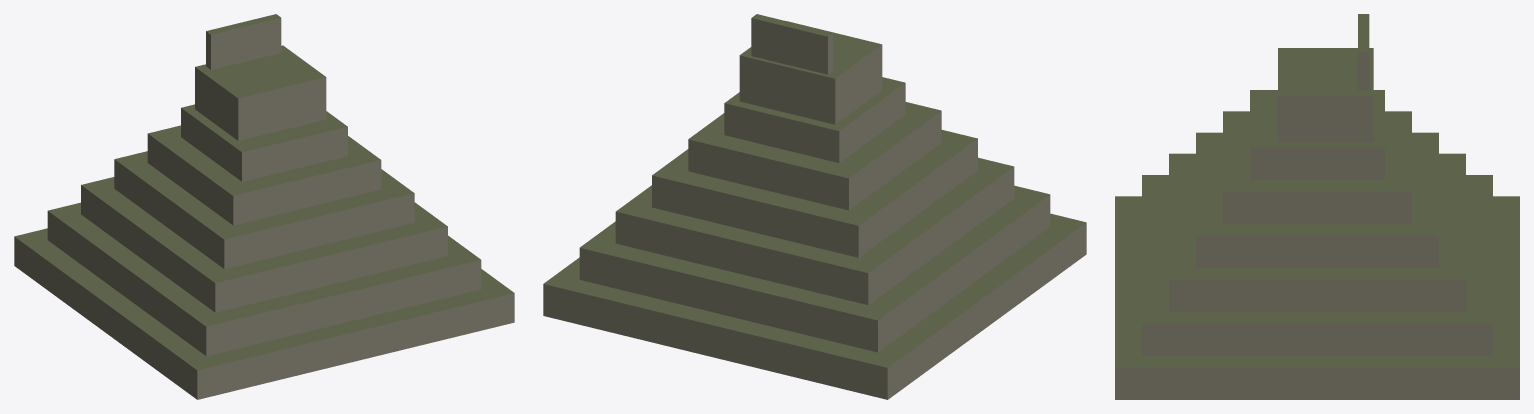
The model's file is ruin-pyramid.far-facades-v3.lod2.glb.
3 views of the same model, side by side, from view 1: azimuth 30°, elevation 25°; view 2: azimuth 150°, elevation 25°; view 3: azimuth 270°, elevation 25° (orthographic). The views are drawn at different scales.
Parts seen in each view (by area): view 1: ruin-pyramid; view 2: ruin-pyramid; view 3: ruin-pyramid.
Part boxes in pixels (<box>): ruin-pyramid: <box>14,14,514,399</box>; ruin-pyramid: <box>543,14,1086,399</box>; ruin-pyramid: <box>1115,14,1519,399</box>.
Size of the model in its own units: 36 by 27.6 by 36.
